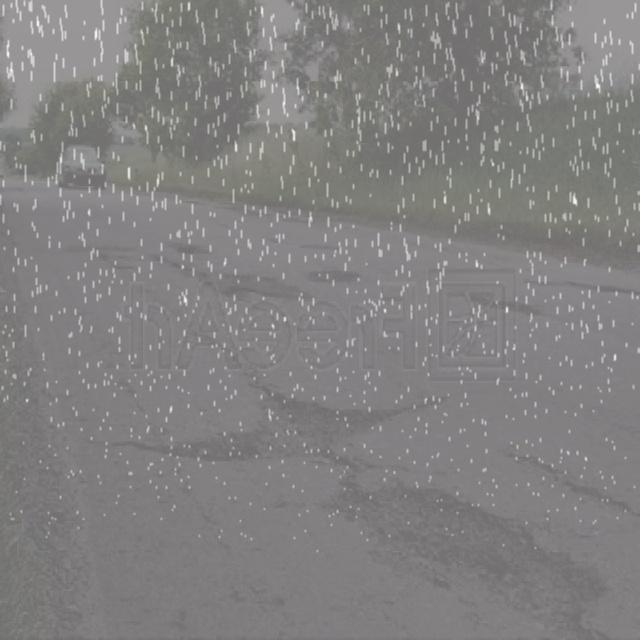Pothole: (326, 454, 640, 640), (108, 368, 453, 469), (120, 234, 305, 314), (483, 431, 640, 512), (519, 266, 640, 328), (459, 281, 572, 330), (46, 234, 140, 272), (313, 269, 373, 284)
